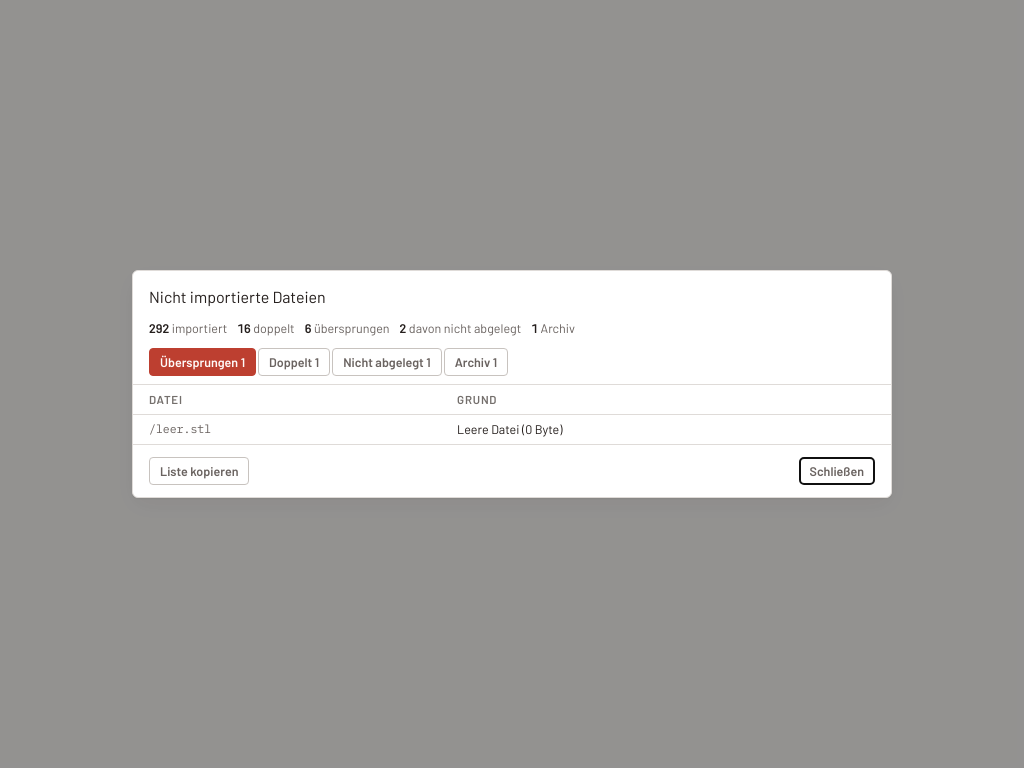
Test: lists assigned and ignored companion files as rows of the archive
Click the tab "Archiv 1".
click(476, 362)  # box [444,348,508,376]
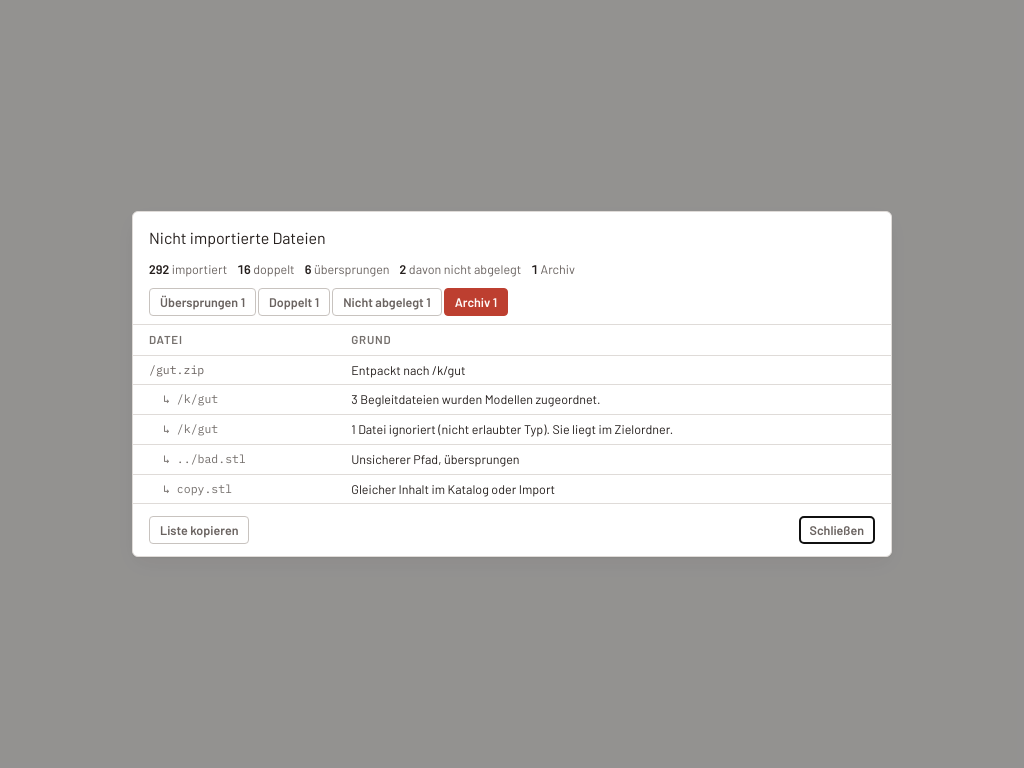
Result: the text "3 Begleitdateien wurden Modellen zugeordnet." is shown at [335,385,891,415]
Result: the text "1 Datei ignoriert (nicht erlaubter Typ)" is shown at [351,421,673,437]
